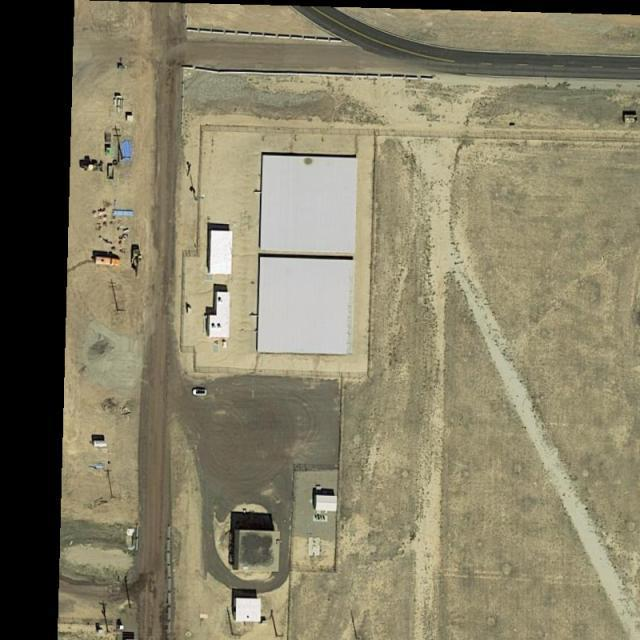vehicle: (192, 389, 207, 397)
